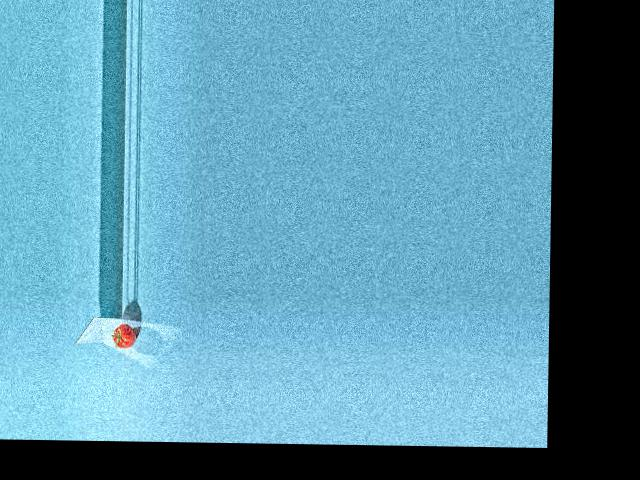tomato: (112, 323, 136, 348)
